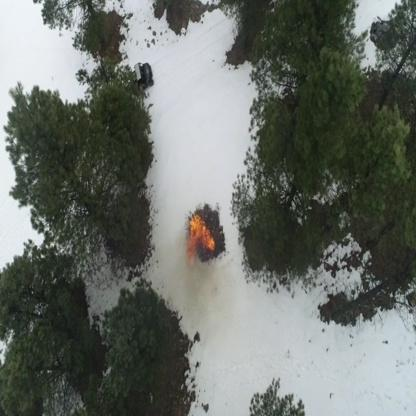Fire: (185, 211, 216, 266)
